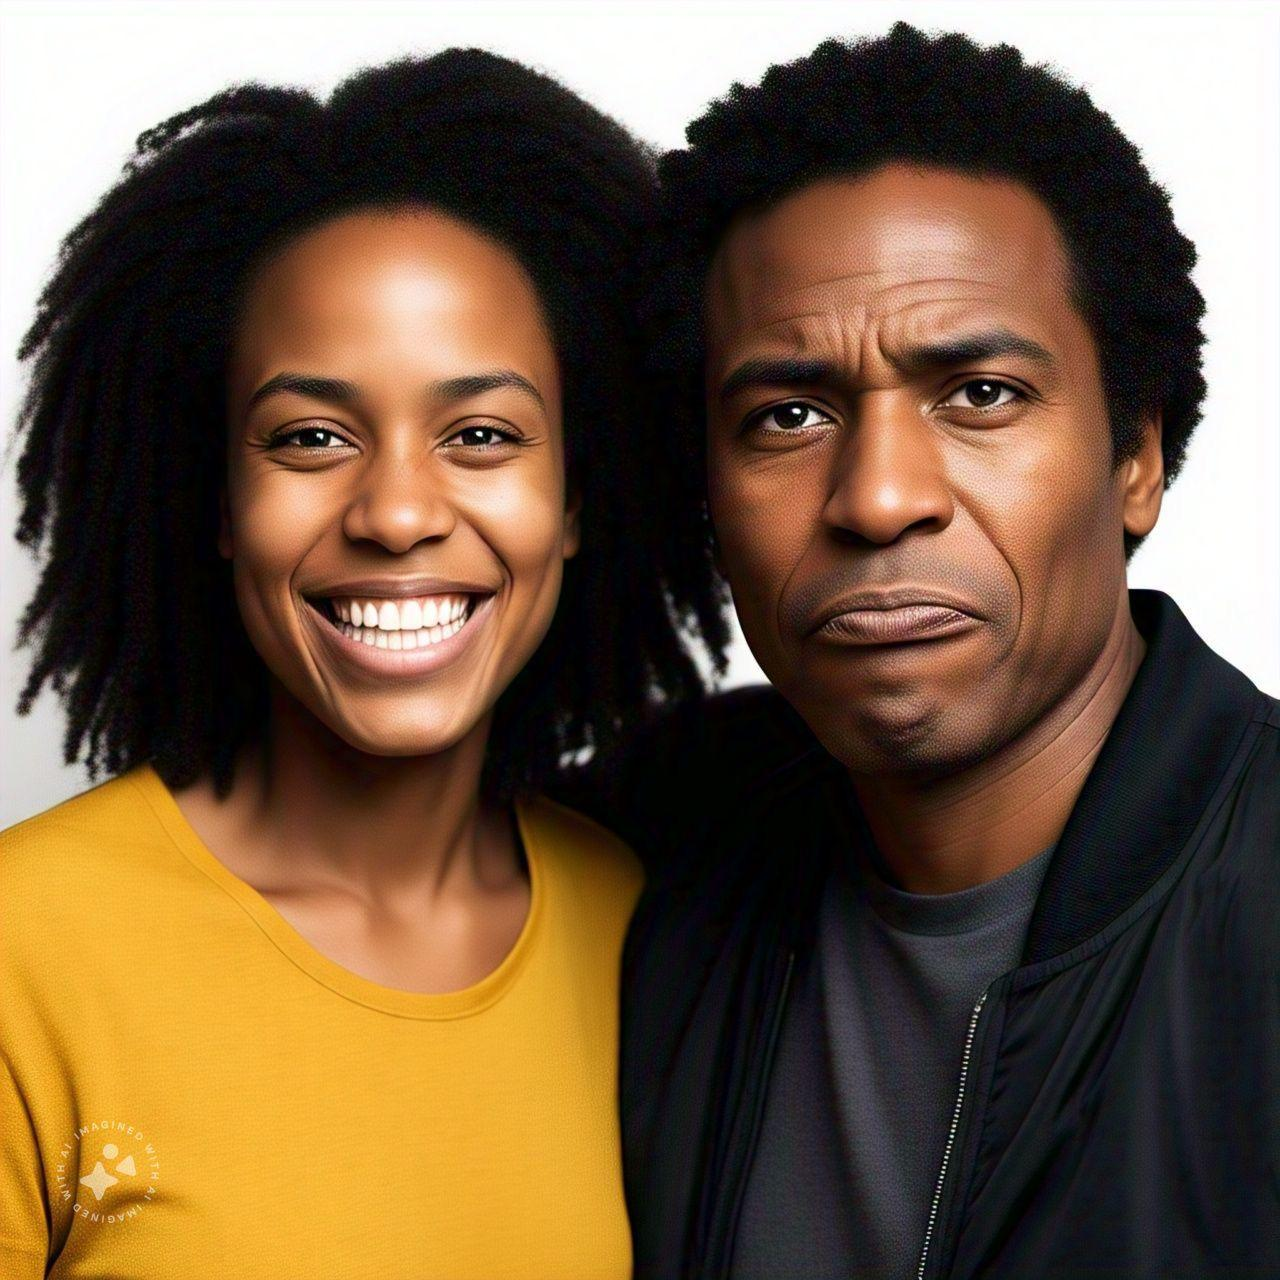feliz: (215, 154, 574, 745)
normal: (674, 173, 1150, 790)
